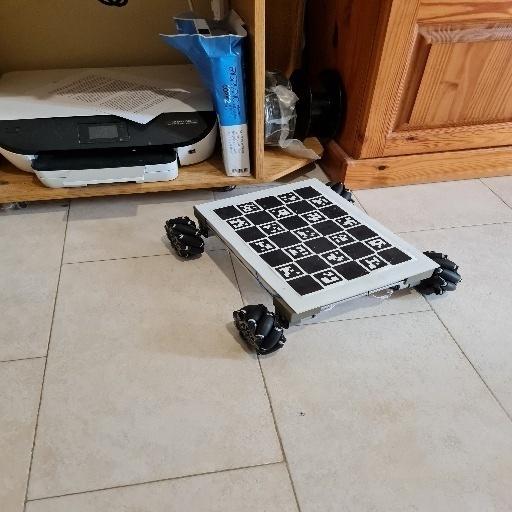Omniwheel: (164, 177, 463, 358)
